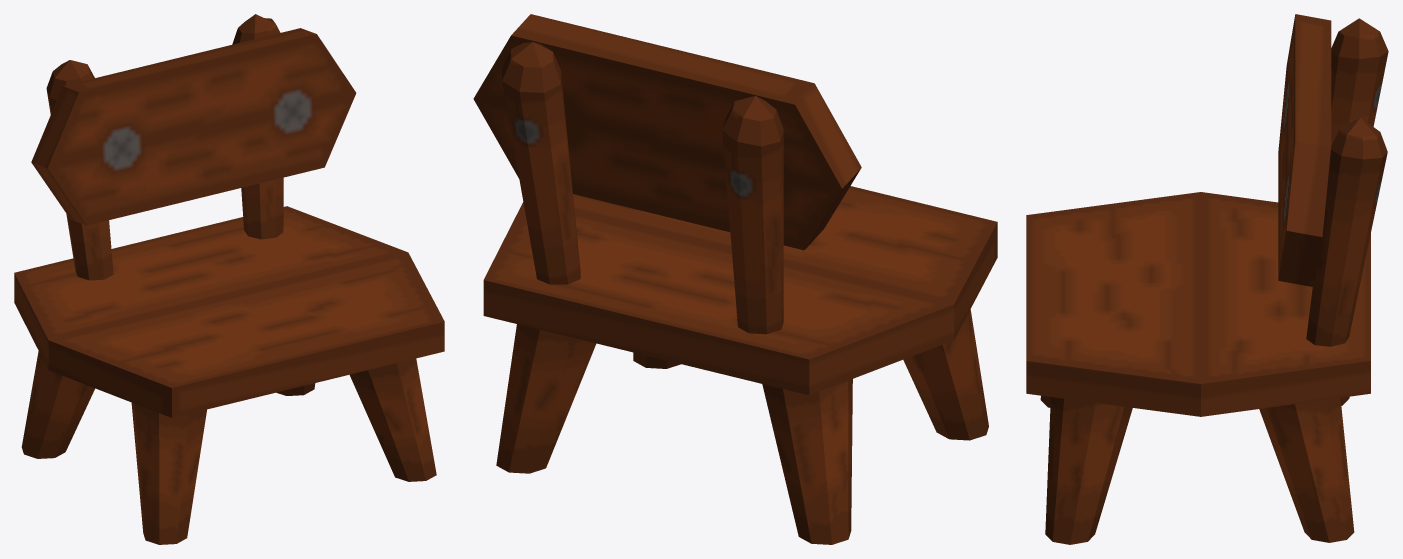
Rendered from silla.fbx.
The picture shows the model from 3 angles, left to right: view 1: azimuth 30°, elevation 25°; view 2: azimuth 150°, elevation 25°; view 3: azimuth 270°, elevation 25°; orthographic projection. The views are drawn at different scales.
Visible parts, largest first — view 1: Cube; view 2: Cube; view 3: Cube.
Part boxes in pixels (x1,y1,x2,y2): Cube: (14,14,444,544); Cube: (473,14,997,544); Cube: (1026,14,1388,544).
Bounding box in the file's own units: 48.88 × 47.77 × 38.95.
Materials: 1 (1 with a texture image).
